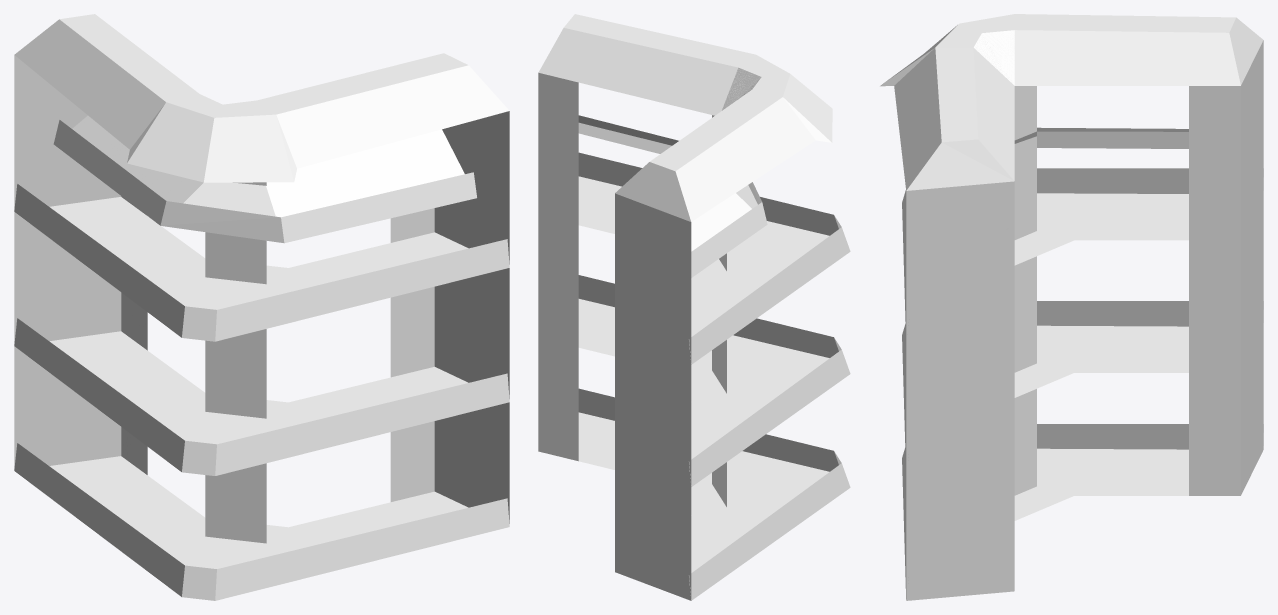
Rendered from shelveCorner.glb.
The picture shows the model from 3 angles, left to right: view 1: azimuth 30°, elevation 25°; view 2: azimuth 150°, elevation 25°; view 3: azimuth 270°, elevation 25°; orthographic projection. The views are drawn at different scales.
Parts seen in each view (by area): view 1: shelve_02; view 2: shelve_02; view 3: shelve_02.
Part boxes in pixels (<box>): shelve_02: <box>14,14,509,600</box>; shelve_02: <box>538,14,850,600</box>; shelve_02: <box>880,14,1263,600</box>.
Bounding box in the file's own units: 1.69 × 2.19 × 1.7.
Materials: 1 (1 with a texture image).
